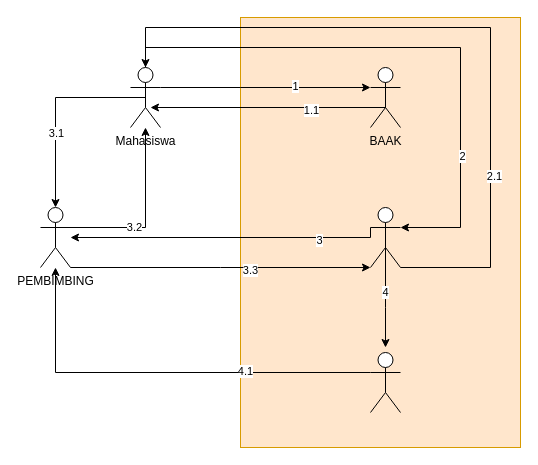
Image size: 538x465. Some labels were removed from this diagram. Here are the shapes that lost their labels. From the top down, the centre of each, then its label:
the point at 385,237: KAPRODI
the point at 385,382: DEKAN
